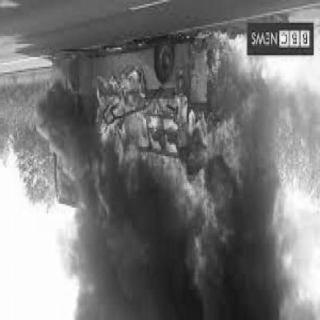Fire: (52, 29, 258, 295)
Smoke: (63, 191, 311, 320), (34, 85, 97, 178)
